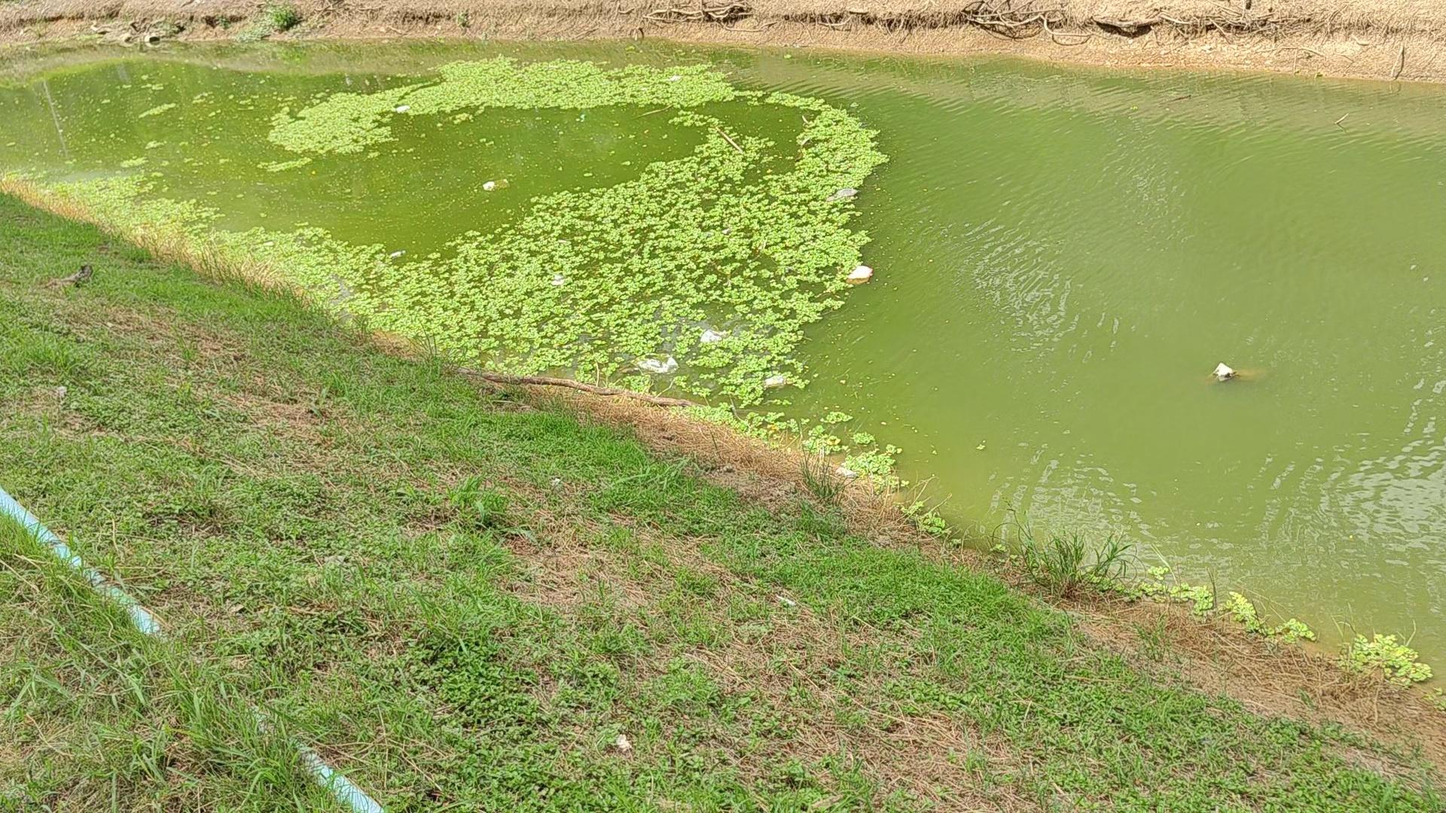trash: (637, 355, 677, 373), (846, 264, 873, 284), (1212, 362, 1236, 381), (764, 374, 788, 388), (701, 329, 725, 343), (829, 187, 856, 199), (551, 273, 565, 286), (483, 181, 496, 190), (395, 105, 409, 112), (389, 251, 404, 257), (669, 75, 680, 81)
